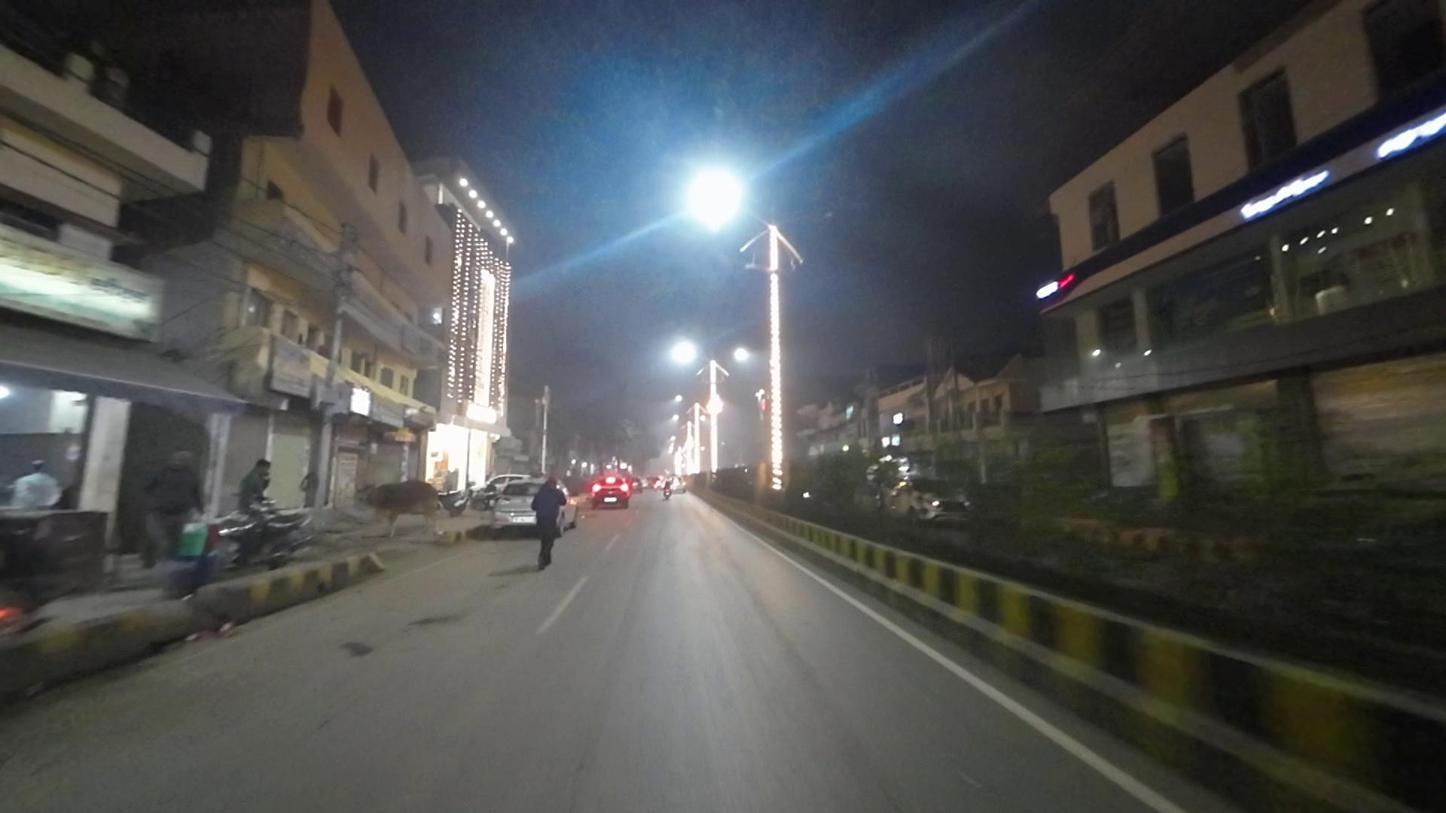streetlight: (781, 209, 835, 227)
